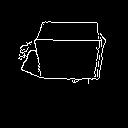cube: (33, 13, 106, 91)
